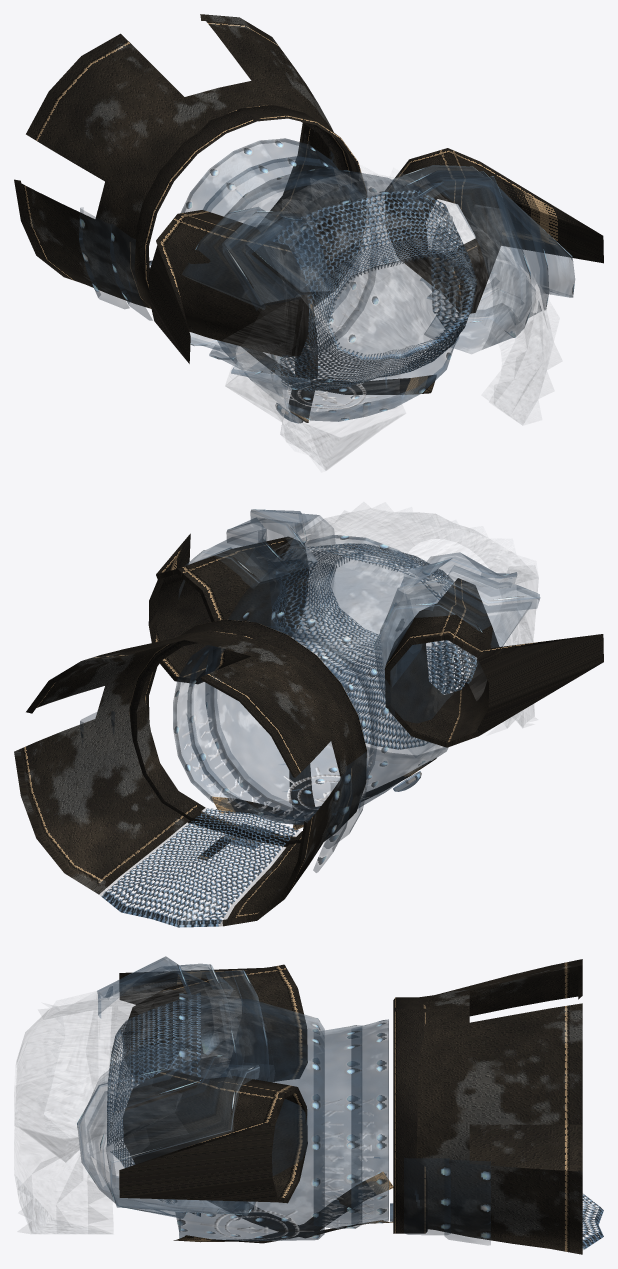
Rendered from cuirasse_gardiens.glb.
3 views of the same model, one above another, from view 1: azimuth 30°, elevation 25°; view 2: azimuth 150°, elevation 25°; view 3: azimuth 270°, elevation 25° (orthographic). The views are drawn at different scales.
Visible parts, largest first — view 1: cuirasse_gardiens.001; view 2: cuirasse_gardiens.001; view 3: cuirasse_gardiens.001.
Part boxes in pixels (x1,y1,x2,y2): cuirasse_gardiens.001: (14, 14, 603, 471); cuirasse_gardiens.001: (14, 504, 603, 927); cuirasse_gardiens.001: (14, 956, 603, 1254).
Size of the model in its own units: 0.8717 by 0.5106 by 1.1.
Materials: 4 (4 with a texture image).
